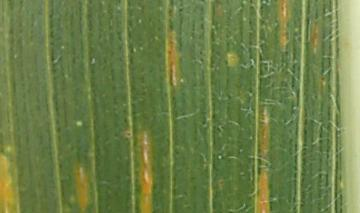tarspot: (125, 130, 132, 137)
